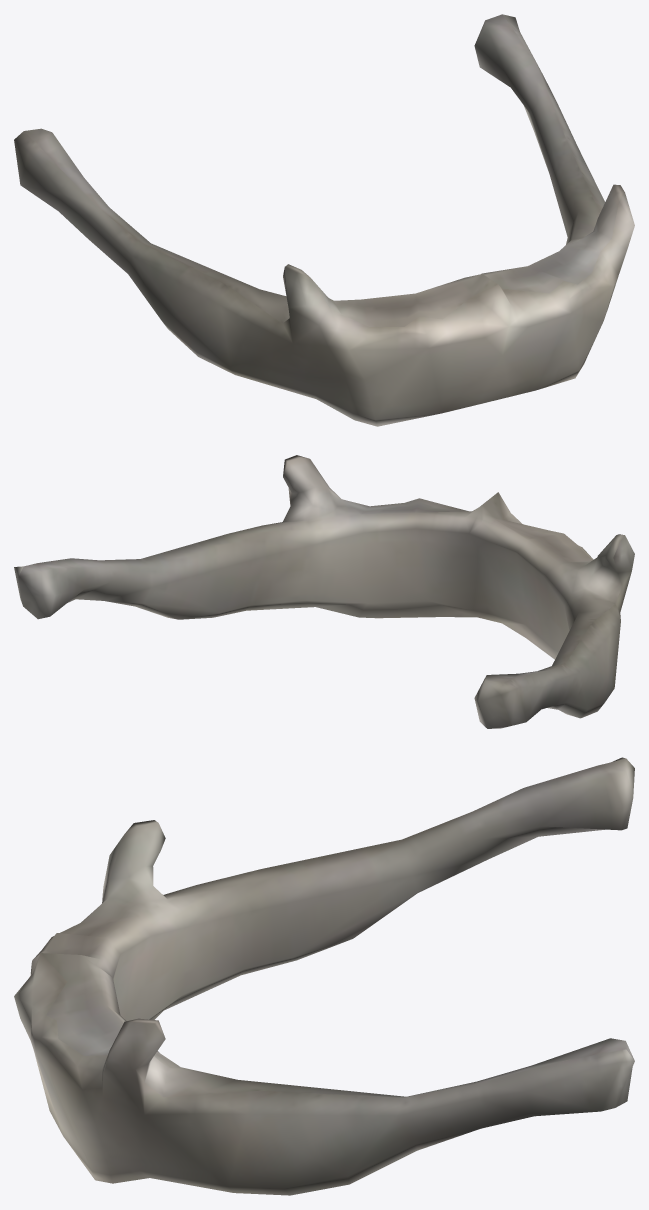
File: hyoid.glb
The picture shows the model from 3 angles, top to bottom: view 1: azimuth 30°, elevation 25°; view 2: azimuth 150°, elevation 25°; view 3: azimuth 270°, elevation 25°; orthographic projection. The views are drawn at different scales.
Parts seen in each view (by area): view 1: Hyoid_bone; view 2: Hyoid_bone; view 3: Hyoid_bone.
Part boxes in pixels (x1,y1,x2,y2): Hyoid_bone: (14, 14, 634, 426); Hyoid_bone: (14, 455, 634, 728); Hyoid_bone: (14, 757, 634, 1195).
Size of the model in its own units: 0.0416 by 0.0136 by 0.0355.
Materials: 1 (1 with a texture image).
